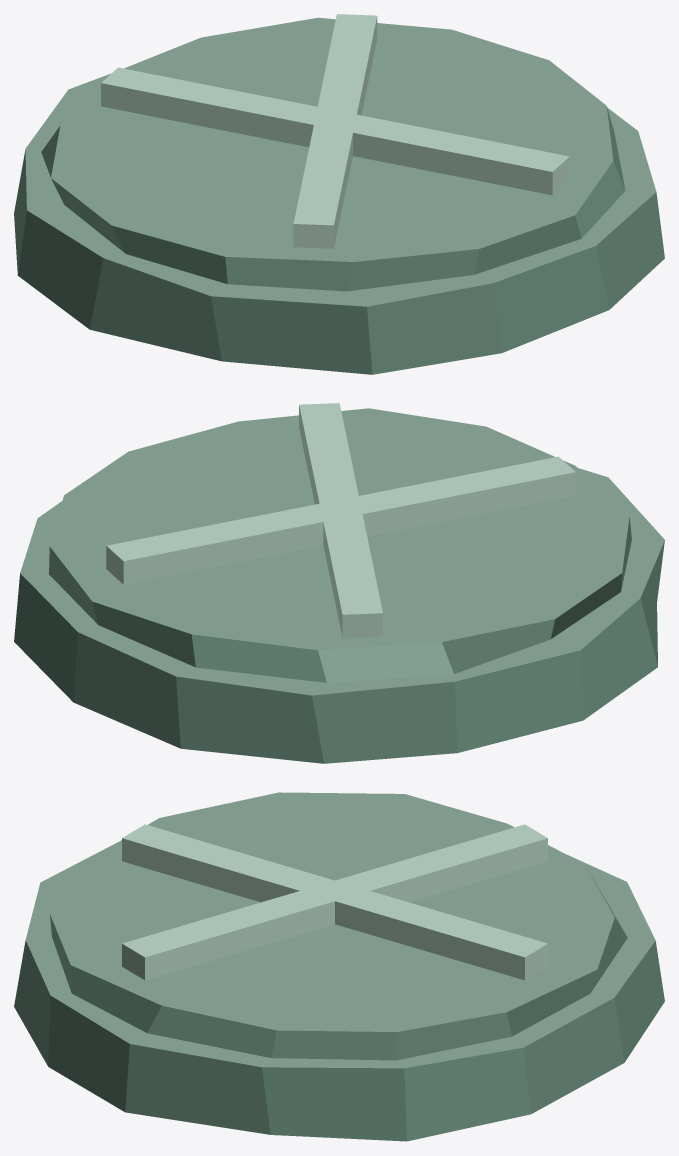
The model's file is Spellstone_Haunted.glb.
3 renders of one model, top to bottom at view 1: azimuth 30°, elevation 25°; view 2: azimuth 150°, elevation 25°; view 3: azimuth 270°, elevation 25°, orthographic.
Visible parts, largest first — view 1: Spellstone_Haunted; view 2: Spellstone_Haunted; view 3: Spellstone_Haunted.
Boxes of the visible parts, bbox=[...] form: Spellstone_Haunted: bbox=[14, 14, 664, 374]; Spellstone_Haunted: bbox=[14, 403, 664, 763]; Spellstone_Haunted: bbox=[14, 792, 664, 1141].
Bounding box in the file's own units: 0.8347 × 0.163 × 0.844.
